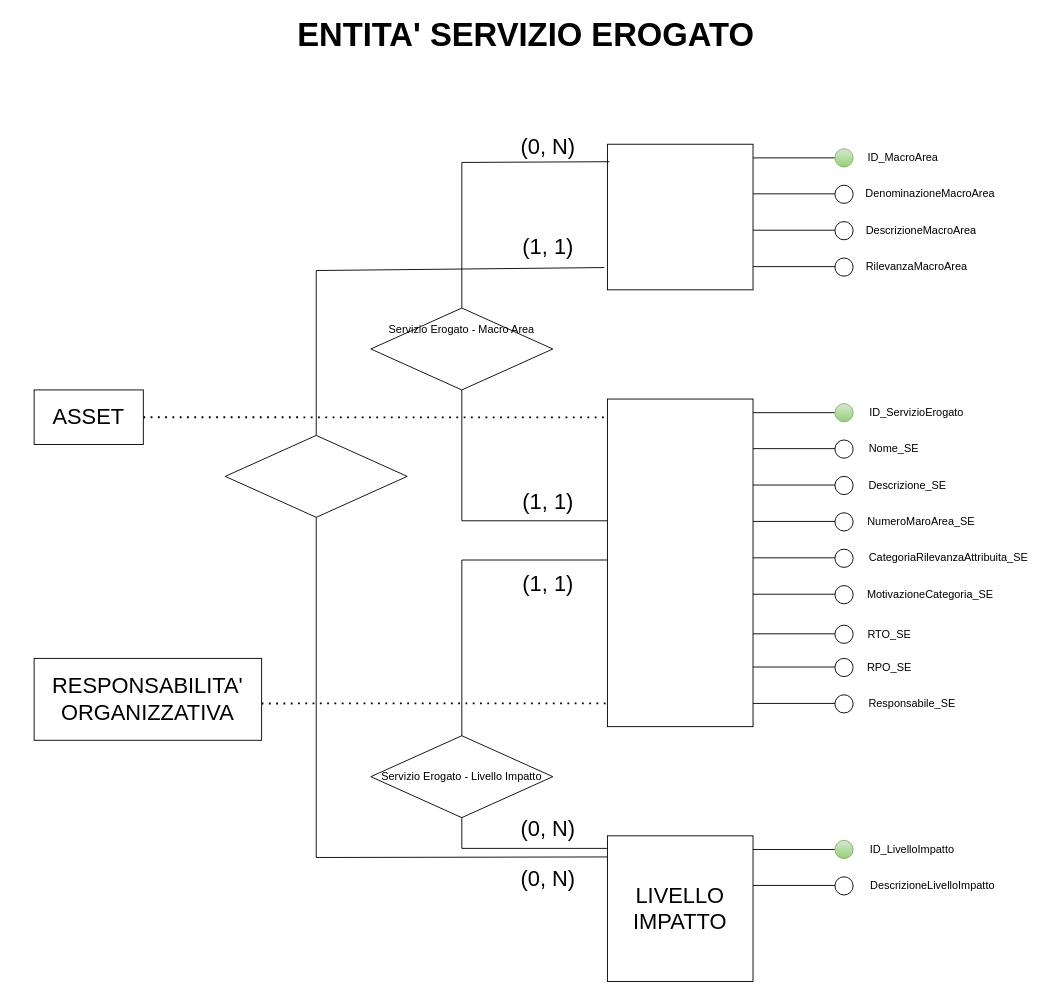
Some shapes in this 1050 by 997 pixel diagram are drawn without their labels. The centre of each missing label's shape, as x and y in pixels:
"MACRO AREA" belongs at (680,216).
"Macro Area - Livello Impatto" belongs at (315,476).
"SERVIZIO EROGATO" belongs at (680,562).
